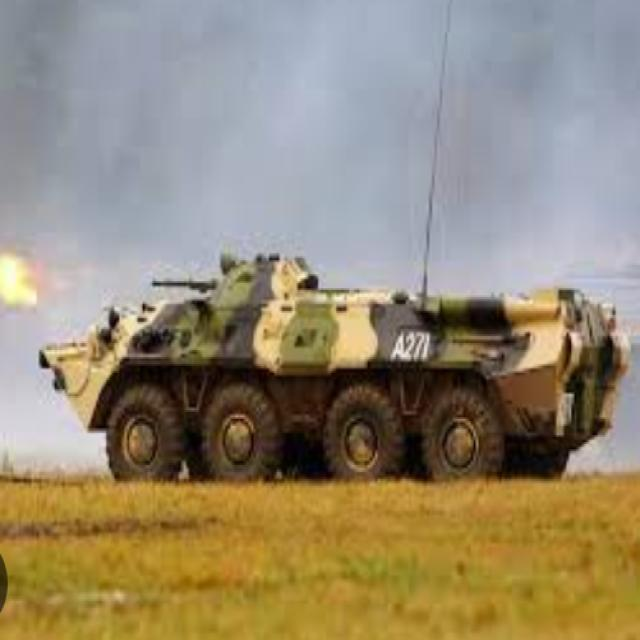MIL_APC: (29, 254, 630, 482)
